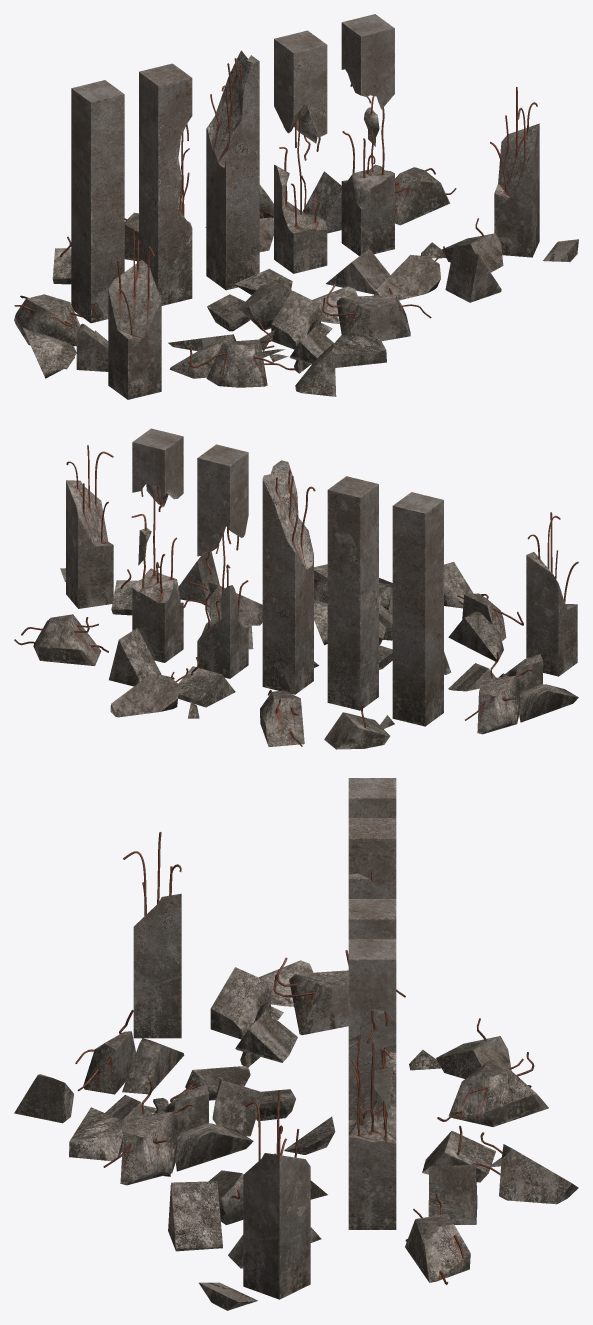
3 renders of one model, top to bottom at view 1: azimuth 30°, elevation 25°; view 2: azimuth 150°, elevation 25°; view 3: azimuth 270°, elevation 25°, orthographic. The views are drawn at different scales.
Visible parts, largest first — view 1: model_03, model_04, model_10, model_09, model_08, model_07, model_06, model_05, model_01, model_00, model_02; view 2: model_10, model_09, model_04, model_08, model_07, model_06, model_03, model_00, model_05, model_01, model_02; view 3: model_03, model_04, model_06, model_01, model_00, model_05, model_02, model_07, model_08, model_09, model_10.
Part boxes in pixels (x1,y1,x2,y2): model_03: (168, 268, 431, 396); model_04: (326, 87, 578, 302); model_10: (71, 80, 124, 323); model_09: (139, 63, 192, 305); model_08: (206, 50, 259, 290); model_07: (274, 30, 327, 273); model_06: (341, 14, 394, 255); model_05: (108, 228, 161, 399); model_01: (14, 294, 108, 378); model_00: (205, 171, 341, 252); model_02: (52, 212, 138, 284); model_10: (392, 492, 443, 726); model_09: (327, 476, 378, 710); model_04: (14, 445, 262, 665); model_08: (262, 460, 315, 694); model_07: (197, 444, 248, 678); model_06: (131, 428, 183, 662); model_03: (314, 562, 523, 674); model_00: (109, 628, 235, 718); model_05: (526, 512, 578, 676); model_01: (448, 652, 578, 734); model_02: (260, 689, 394, 749); model_03: (14, 1009, 335, 1185); model_04: (168, 1090, 470, 1310); model_06: (348, 939, 396, 1229); model_01: (210, 957, 405, 1067); model_00: (422, 1125, 578, 1224); model_05: (123, 832, 181, 1038); model_02: (409, 1018, 548, 1126); model_07: (348, 899, 396, 1133); model_08: (348, 870, 396, 1120); model_09: (345, 818, 396, 965); model_10: (348, 778, 396, 818).
Size of the model in its own units: 6.35 by 2.82 by 4.73.
2 materials, 2 textured.
